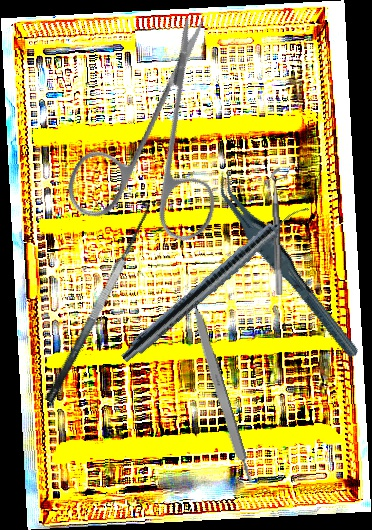Fixation Ring: (270, 166, 294, 296)
Handpiece: (117, 195, 313, 370)
Iris Scissors: (19, 11, 293, 281)
Scalpel Handle: (187, 301, 255, 488)
Spatula Surgical: (27, 196, 162, 405)
Tissue Forceps: (209, 157, 362, 374)
